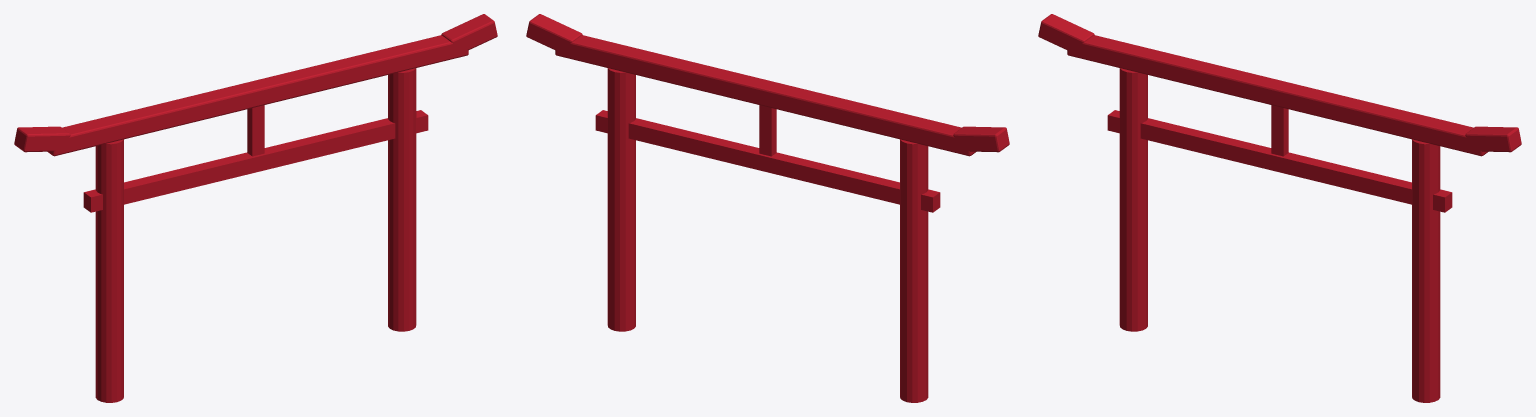
File: Torii.fbx
3 views of the same model, side by side, from view 1: azimuth 30°, elevation 25°; view 2: azimuth 150°, elevation 25°; view 3: azimuth 330°, elevation 25° (orthographic).
Visible parts, largest first — view 1: ToriiPillar-1.001; view 2: ToriiPillar-1.001; view 3: ToriiPillar-1.001.
Part boxes in pixels (left/top/right/bottom): ToriiPillar-1.001: left=14, top=14, right=497, bottom=402; ToriiPillar-1.001: left=526, top=14, right=1009, bottom=402; ToriiPillar-1.001: left=1038, top=14, right=1521, bottom=402.
Bounding box in the file's own units: 8432 × 4884 × 440.
